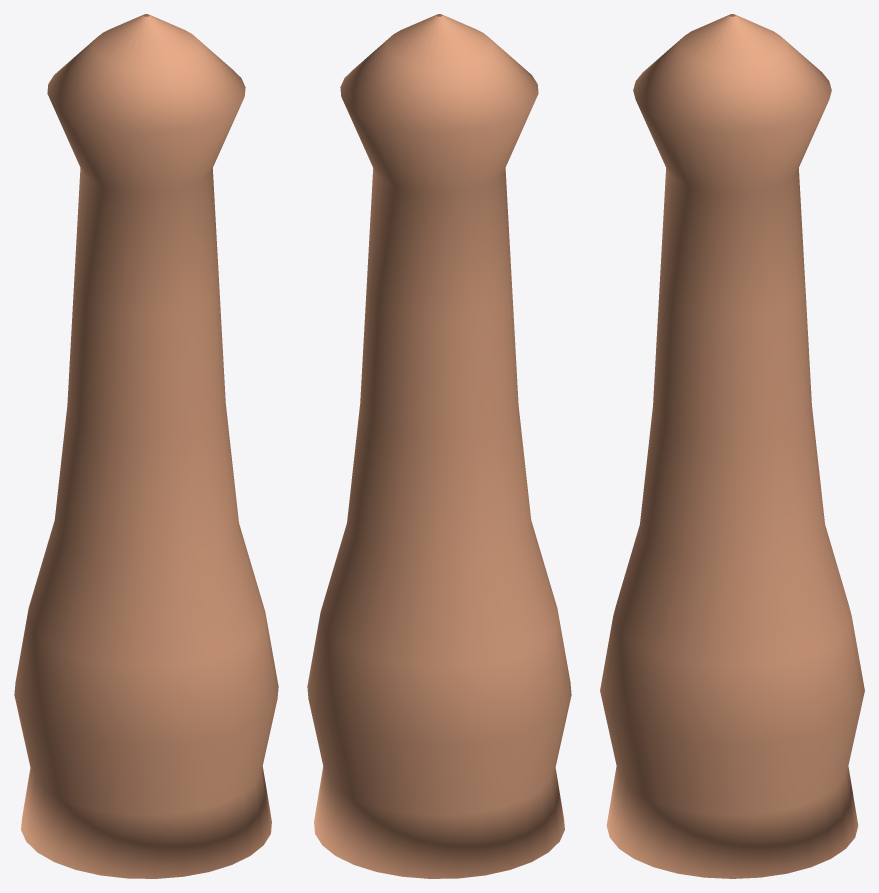
Rendered from terracotta_horse.glb.
3 views of the same model, side by side, from view 1: azimuth 30°, elevation 25°; view 2: azimuth 150°, elevation 25°; view 3: azimuth 270°, elevation 25° (orthographic).
Parts seen in each view (by area): view 1: BankuraTerracotta_Horse; view 2: BankuraTerracotta_Horse; view 3: BankuraTerracotta_Horse.
Boxes of the visible parts, <box> form: BankuraTerracotta_Horse: <box>14,14,278,878</box>; BankuraTerracotta_Horse: <box>307,14,571,878</box>; BankuraTerracotta_Horse: <box>600,14,864,878</box>.
Size of the model in its own units: 0.08 by 0.27 by 0.08.
